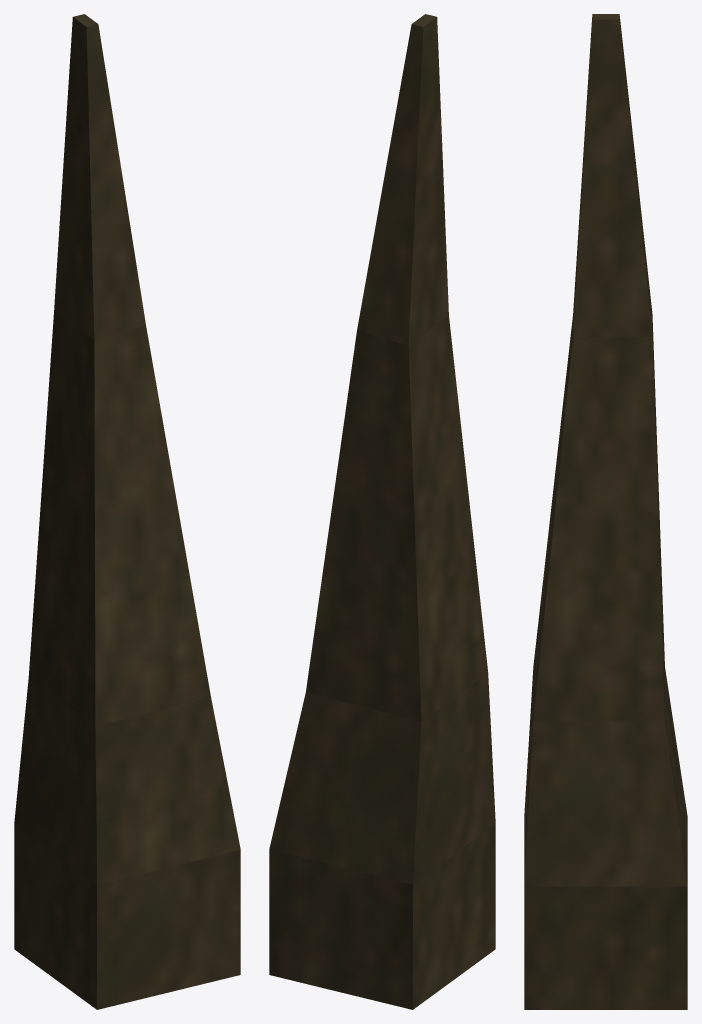
Rendered from wooden_spike_extra_large_2.obj.
3 views of the same model, side by side, from view 1: azimuth 30°, elevation 25°; view 2: azimuth 150°, elevation 25°; view 3: azimuth 270°, elevation 25° (orthographic).
Parts seen in each view (by area): view 1: cuboid; view 2: cuboid; view 3: cuboid.
Boxes of the visible parts, <box> form: cuboid: <box>14,14,240,1009</box>; cuboid: <box>269,14,495,1009</box>; cuboid: <box>524,14,687,1009</box>.
Bounding box in the file's own units: 0.75 × 4.75 × 0.75.
